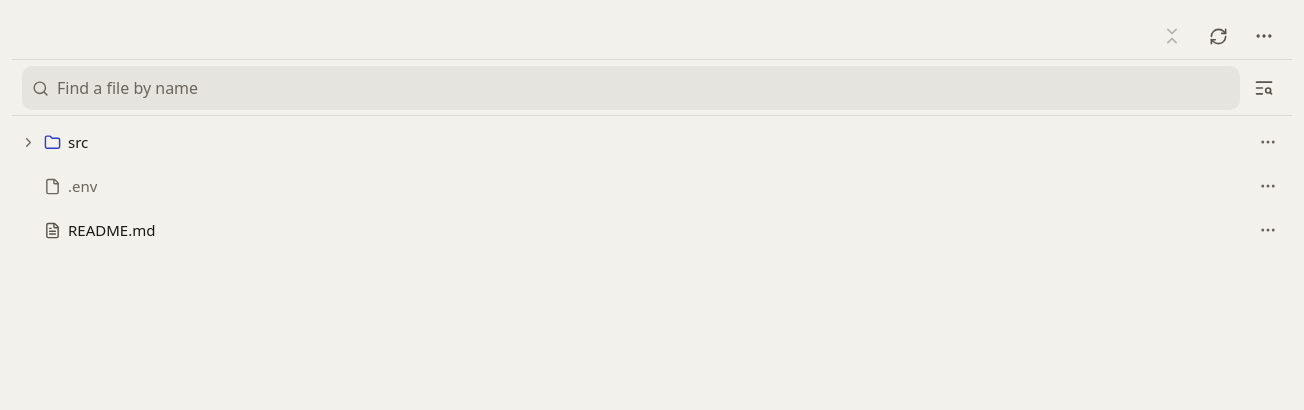
Test: the files panel › offers nothing that changes files to someone who may only look
Expected: the element showing "src .env README.md" is shown, top-left (12, 116), bottom-right (1292, 276)
Click the button named "Actions for README.md" at (1268, 230), box top-left (1246, 208), bottom-right (1290, 252)
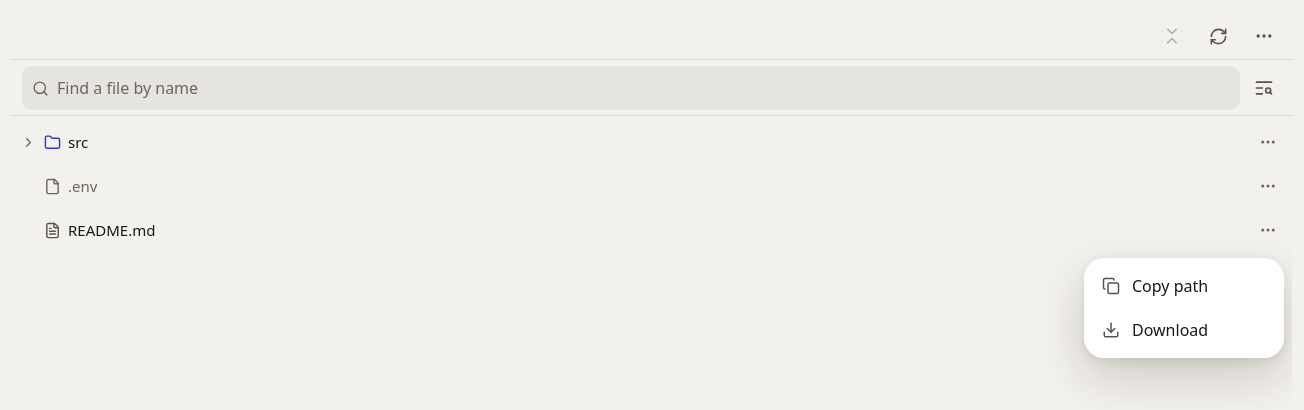
Expected: the menu item "Download" is shown, top-left (1090, 308), bottom-right (1278, 352)
